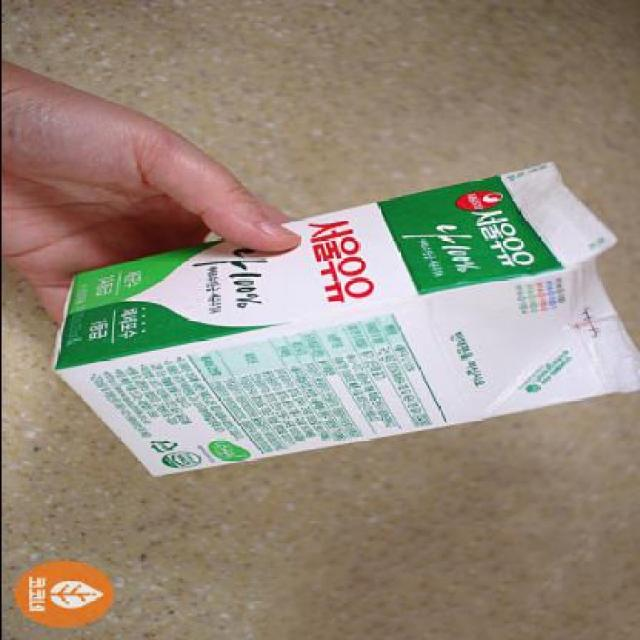non_white_jug: (59, 149, 638, 500)
